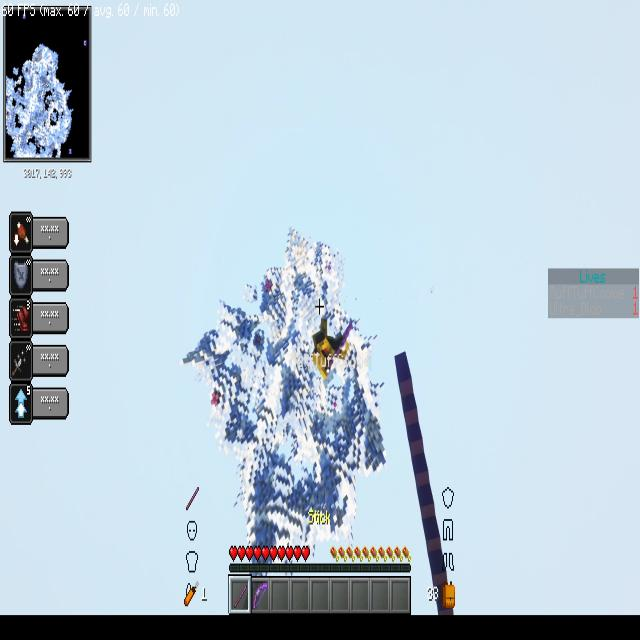Player: (313, 306, 353, 393)
